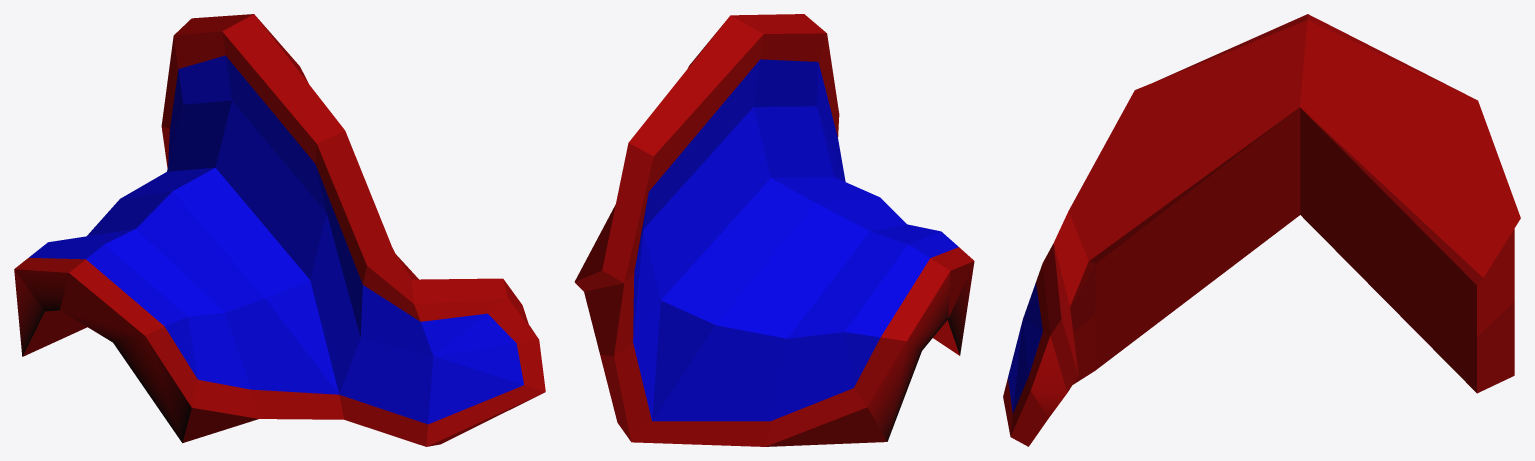
Rendered from Chr_ShoulderAttachRight_Static_07.fbx.
The picture shows the model from 3 angles, left to right: view 1: azimuth 30°, elevation 25°; view 2: azimuth 150°, elevation 25°; view 3: azimuth 270°, elevation 25°; orthographic projection. The views are drawn at different scales.
Parts seen in each view (by area): view 1: Chr_ShoulderAttachRight_07; view 2: Chr_ShoulderAttachRight_07; view 3: Chr_ShoulderAttachRight_07.
Boxes of the visible parts, box(x1,y1,x2,y2) form: Chr_ShoulderAttachRight_07: box(14, 14, 545, 446); Chr_ShoulderAttachRight_07: box(574, 14, 974, 446); Chr_ShoulderAttachRight_07: box(1003, 14, 1520, 446).
Size of the model in its own units: 37.28 by 33.6 by 42.57.
